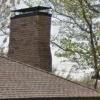Chimney: (5, 3, 68, 76)
